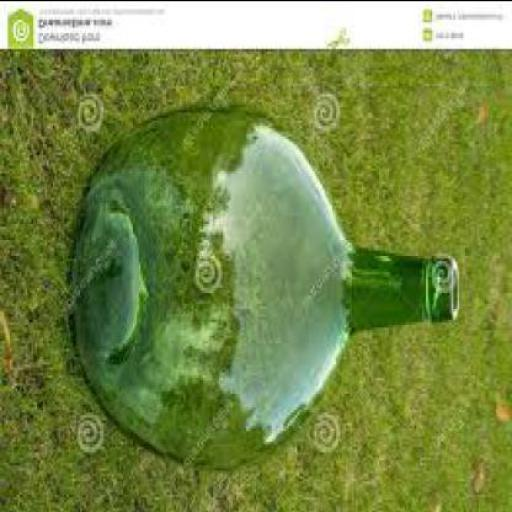glass: (70, 109, 462, 469)
